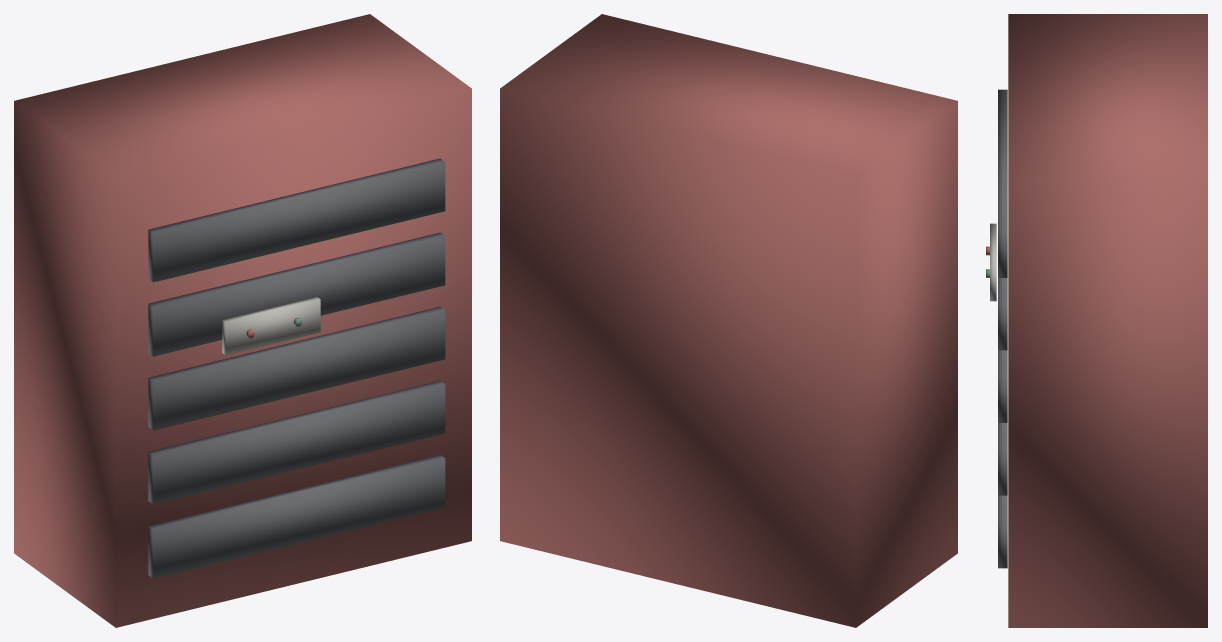
Rendered from tool_cabinet__tall.glb.
3 renders of one model, left to right at view 1: azimuth 30°, elevation 25°; view 2: azimuth 150°, elevation 25°; view 3: azimuth 270°, elevation 25°, orthographic. The views are drawn at different scales.
Visible parts, largest first — view 1: world; view 2: world; view 3: world.
Part boxes in pixels (<box>): world: <box>14,14,471,627</box>; world: <box>500,14,957,627</box>; world: <box>986,14,1207,627</box>.
Bounding box in the file's own units: 1.05 × 1.28 × 0.5785.
